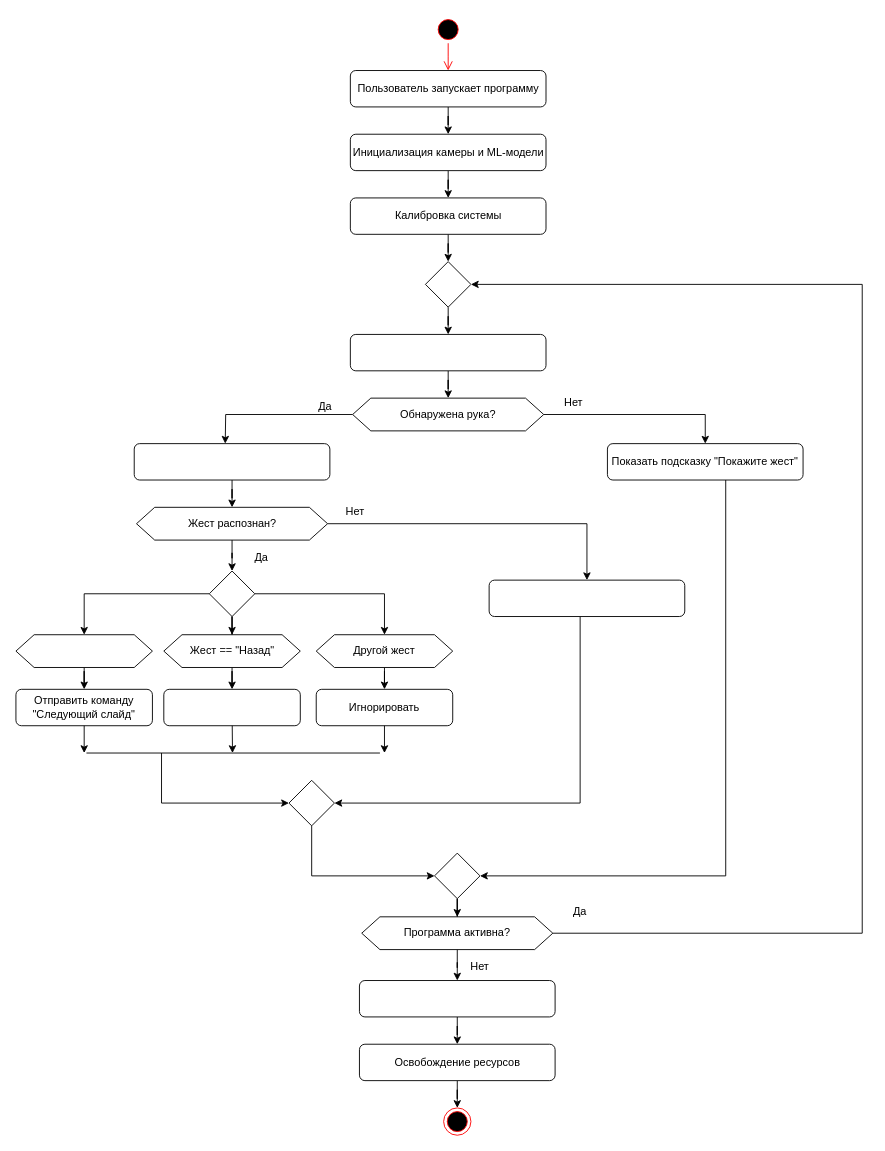
This 885x1151 diagram has some shape labels left out. Each missing label, with the centre of its shape:
Жест == "Вперед": (x=83, y=650)
Записать в лог "Неизвестный жест": (x=586, y=598)
Захват кадра с камеры: (x=447, y=352)
Определение ключевых точек руки: (x=231, y=461)
Отправить команду "Предыдущий слайд": (x=231, y=707)
Сохранение логов: (x=457, y=998)
